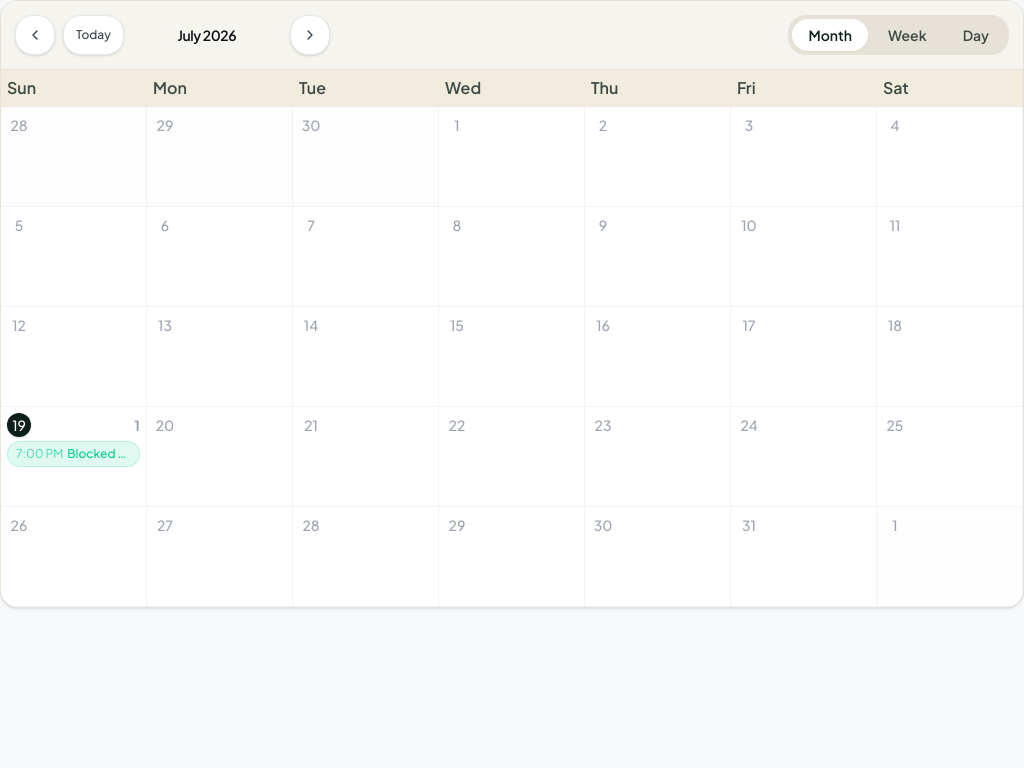
ScheduleCalendar › hides the team filter and unassigned lane when only one team member is visible
The image size is (1024, 768).
Click the button "day". click: (976, 35)
box: x1=947 y1=19 x2=1005 y2=51
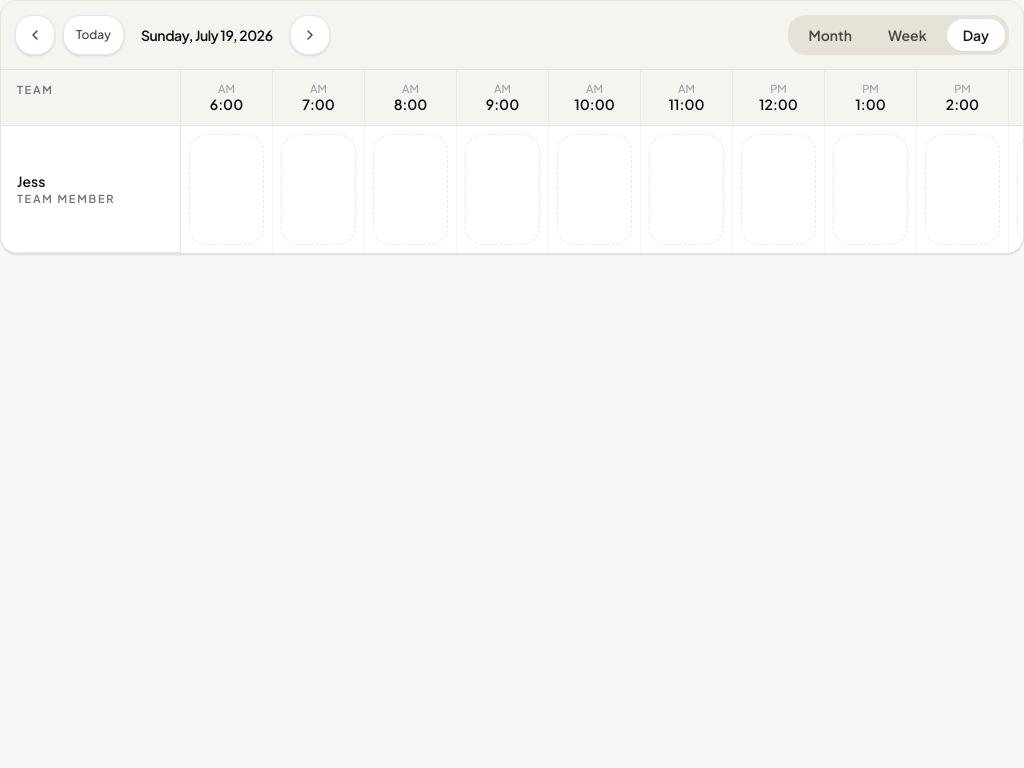
Check: the text "Jess" is shown, box x1=17 y1=172 x2=45 y2=190
